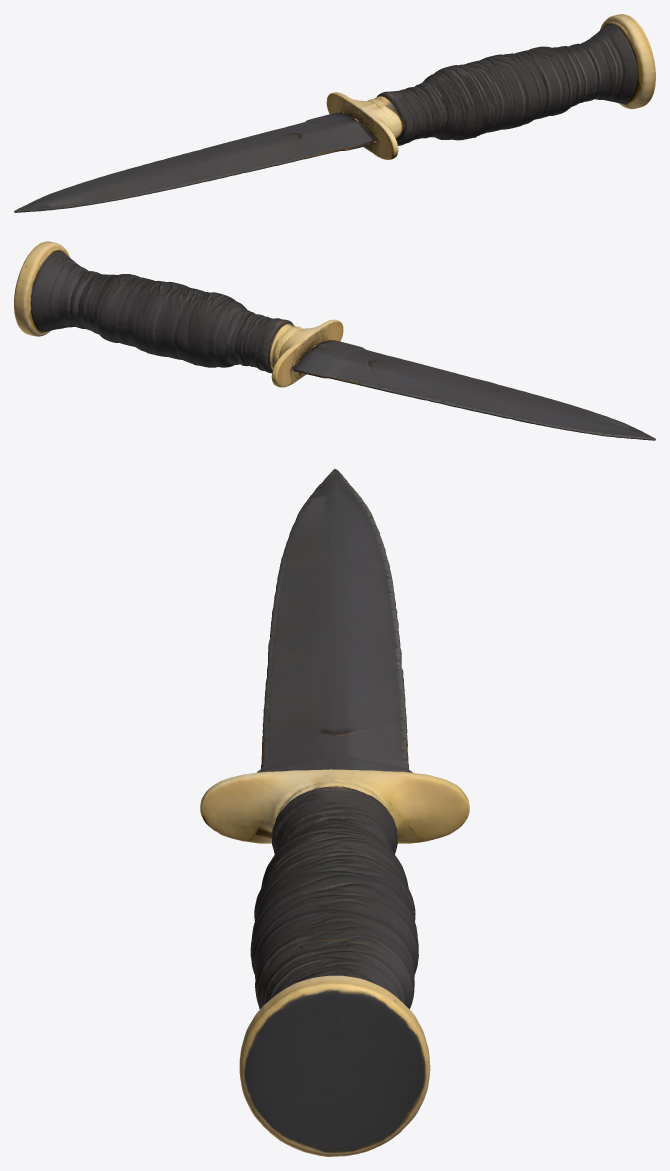
File: world_war_2_combat_kn_1030145114_texture.fbx
The picture shows the model from 3 angles, top to bottom: view 1: azimuth 30°, elevation 25°; view 2: azimuth 150°, elevation 25°; view 3: azimuth 270°, elevation 25°; orthographic projection. The views are drawn at different scales.
Visible parts, largest first — view 1: input; view 2: input; view 3: input.
Part boxes in pixels (x1,y1,x2,y2): input: [14, 14, 655, 212]; input: [14, 241, 655, 440]; input: [200, 469, 469, 1156].
Bounding box in the file's own units: 190 × 25.47 × 35.86.
1 material, 1 textured.
